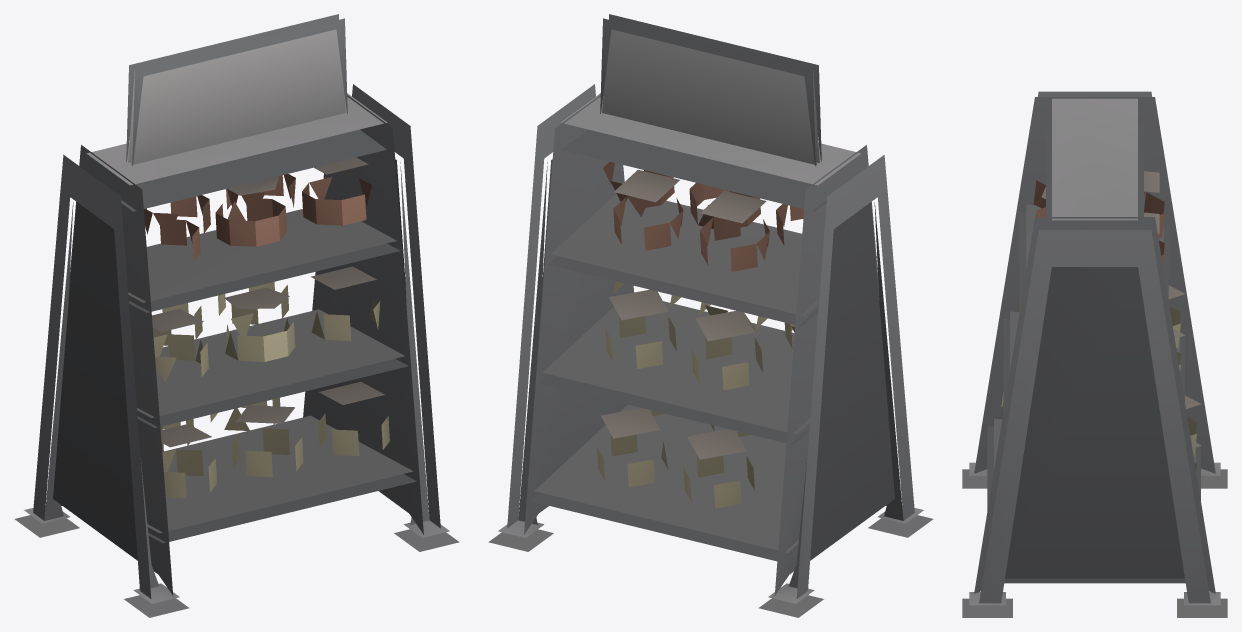
The model's file is cans.lod.glb.
The picture shows the model from 3 angles, left to right: view 1: azimuth 30°, elevation 25°; view 2: azimuth 150°, elevation 25°; view 3: azimuth 270°, elevation 25°; orthographic projection.
Visible parts, largest first — view 1: cans.001; view 2: cans.001; view 3: cans.001.
Part boxes in pixels (bbox=[...]): cans.001: bbox=[14, 14, 459, 617]; cans.001: bbox=[488, 14, 933, 617]; cans.001: bbox=[962, 91, 1227, 617].
Size of the model in its own units: 0.718 by 1.08 by 0.542.
